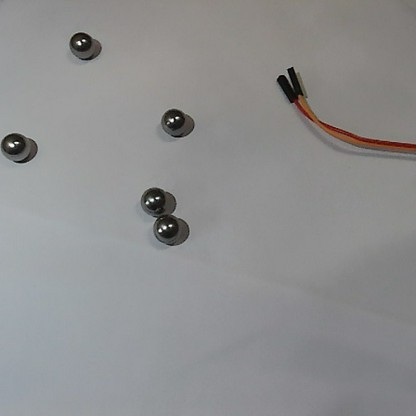ironball: (149, 213, 184, 249), (0, 128, 33, 166), (158, 100, 190, 139), (135, 183, 171, 216), (66, 29, 97, 58)
